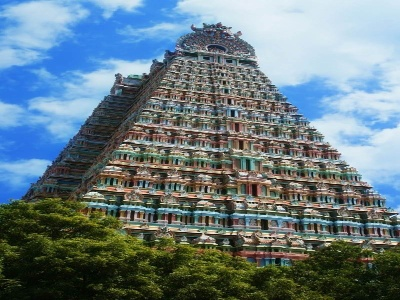gopura: (64, 31, 381, 240)
